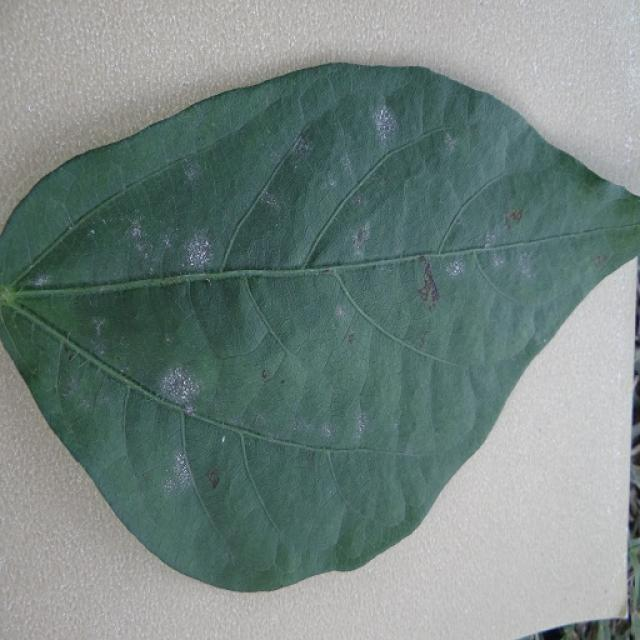Blackgram: (0, 65, 639, 590)
Powdery_Mildew: (85, 105, 386, 294), (406, 201, 553, 316), (125, 340, 216, 492), (271, 118, 382, 220), (129, 214, 221, 279), (477, 208, 526, 281), (154, 362, 216, 412), (286, 405, 348, 442), (157, 366, 200, 411), (125, 219, 154, 266), (163, 451, 192, 495), (417, 258, 441, 311), (182, 234, 213, 270), (374, 106, 398, 141), (64, 370, 82, 398), (291, 133, 311, 158), (319, 171, 340, 193), (517, 252, 534, 279), (353, 226, 370, 251), (504, 208, 523, 229), (483, 225, 500, 247), (262, 192, 283, 209), (445, 260, 464, 277), (183, 162, 199, 181), (206, 468, 220, 489), (92, 318, 107, 337), (130, 224, 144, 243), (356, 414, 368, 436), (491, 251, 505, 268), (444, 134, 457, 152), (32, 274, 49, 287), (593, 255, 609, 268), (322, 424, 332, 438), (335, 304, 345, 316), (261, 369, 271, 380), (346, 333, 355, 343), (120, 367, 128, 376), (88, 228, 95, 236), (221, 435, 227, 444), (68, 225, 75, 232)
